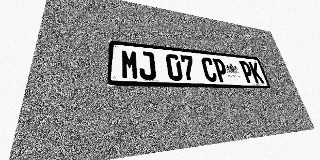0: (165, 54, 183, 81)
7: (179, 55, 197, 81)
C: (200, 57, 218, 82)
J: (138, 51, 156, 80)
K: (248, 62, 265, 83)
M: (121, 49, 139, 80)
P: (212, 58, 229, 82), (239, 61, 255, 83)
